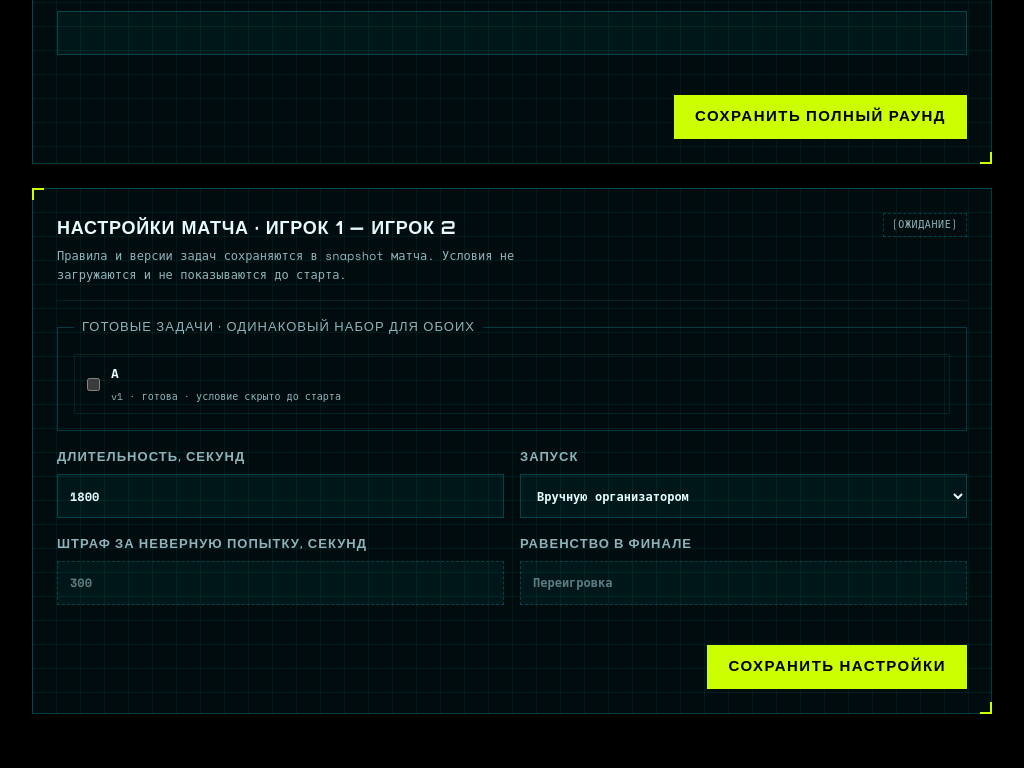
admin bracket and match controls › against the real HTTP contract › saves the match config with an idempotency key and then shows the manual start
(page scrolled)
Click the checkbox labelled "A v1 · готова · условие скрыто до старта" at [94, 384], box [87,378,100,391]
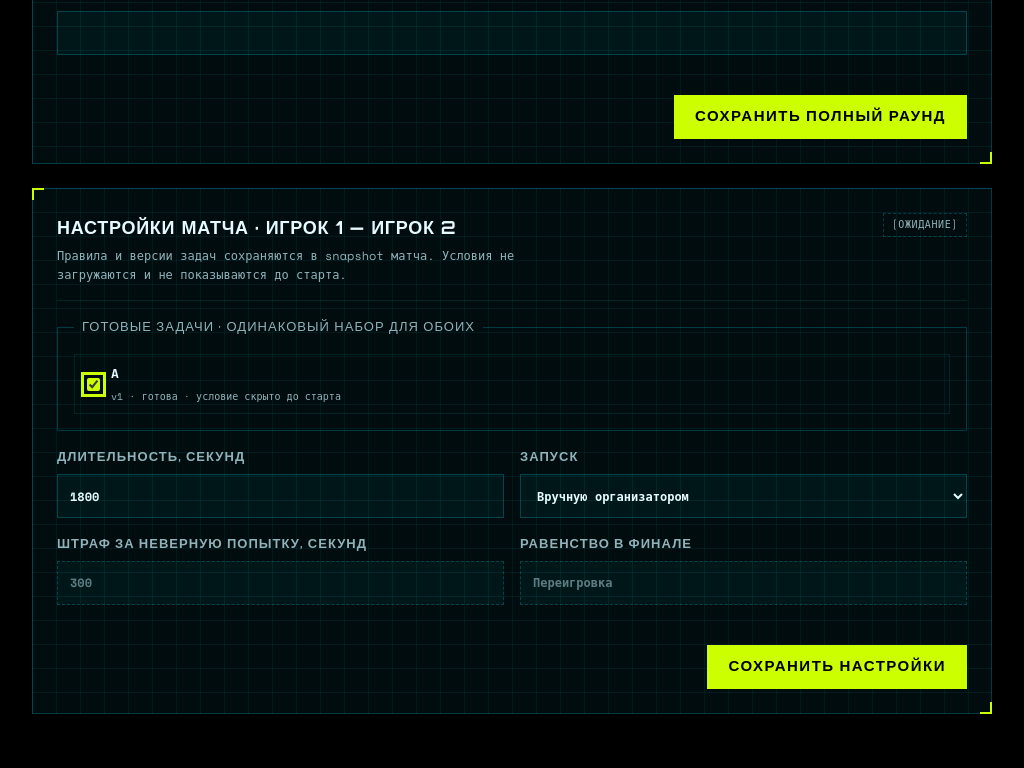
Click the button "Сохранить настройки" at [837, 667], box [708,645,967,689]
(page scrolled)
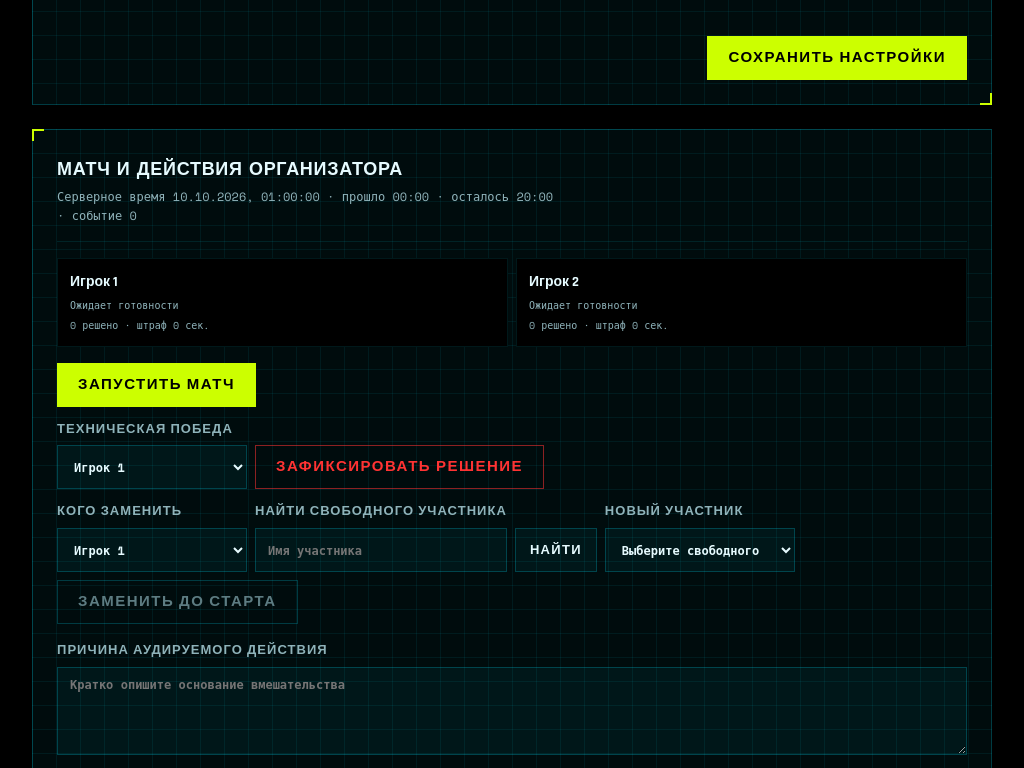
Result: the button "Запустить матч" is shown at [57,363,256,407]
